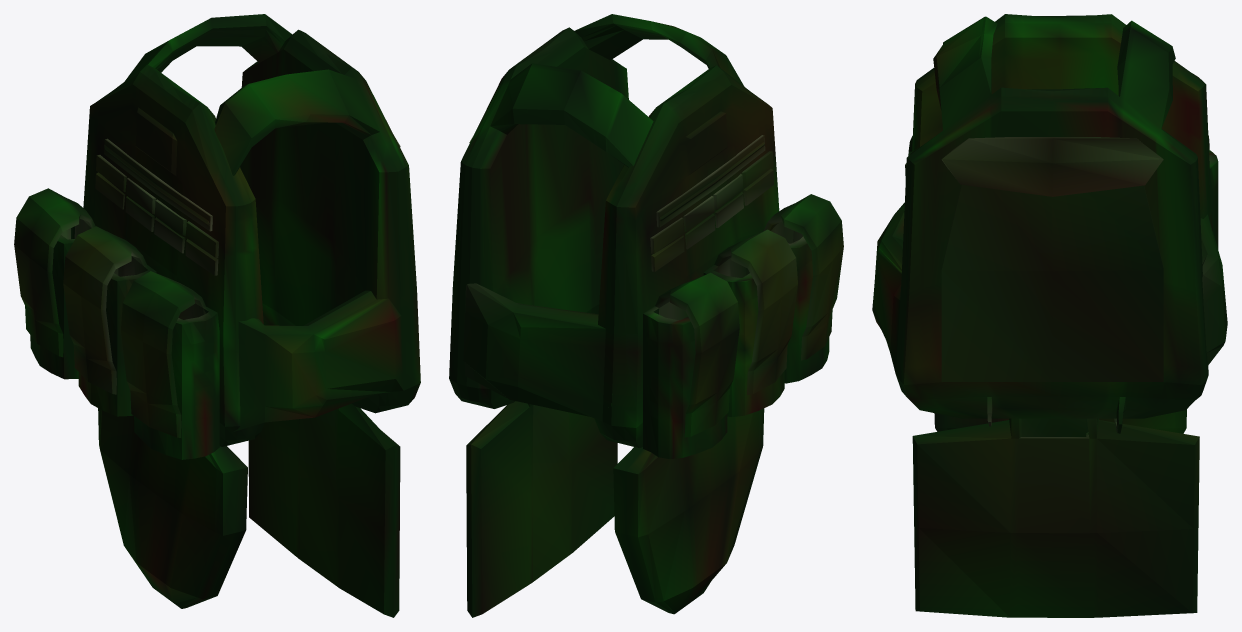
The model's file is pickup-armor.glb.
3 views of the same model, side by side, from view 1: azimuth 30°, elevation 25°; view 2: azimuth 150°, elevation 25°; view 3: azimuth 270°, elevation 25° (orthographic).
Parts seen in each view (by area): view 1: TacticalVest; view 2: TacticalVest; view 3: TacticalVest.
Part boxes in pixels (box(x1,y1,x2,y2)): TacticalVest: box(14, 14, 420, 617); TacticalVest: box(449, 14, 843, 617); TacticalVest: box(872, 14, 1227, 617).
Bounding box in the file's own units: 1.05 × 2 × 1.17.
